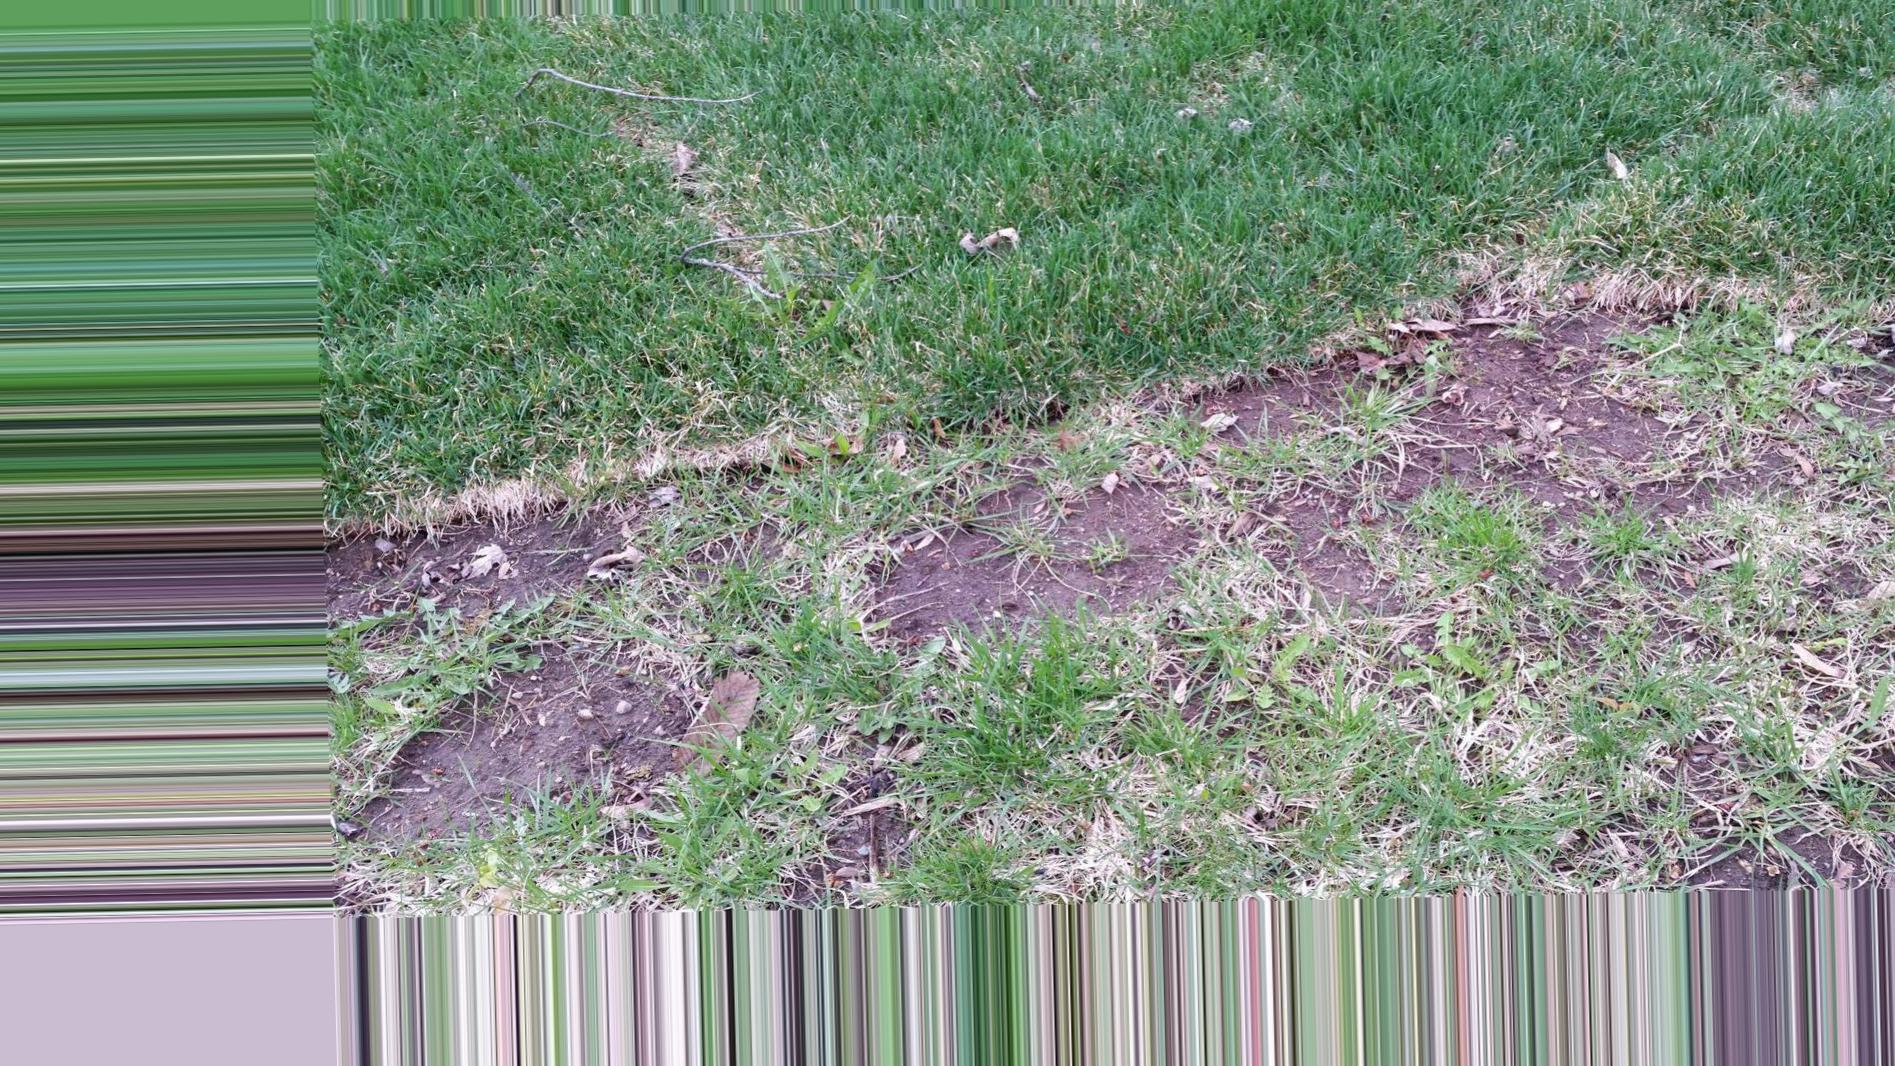patch: (466, 651, 677, 769), (1514, 340, 1607, 480), (955, 528, 1166, 588)
